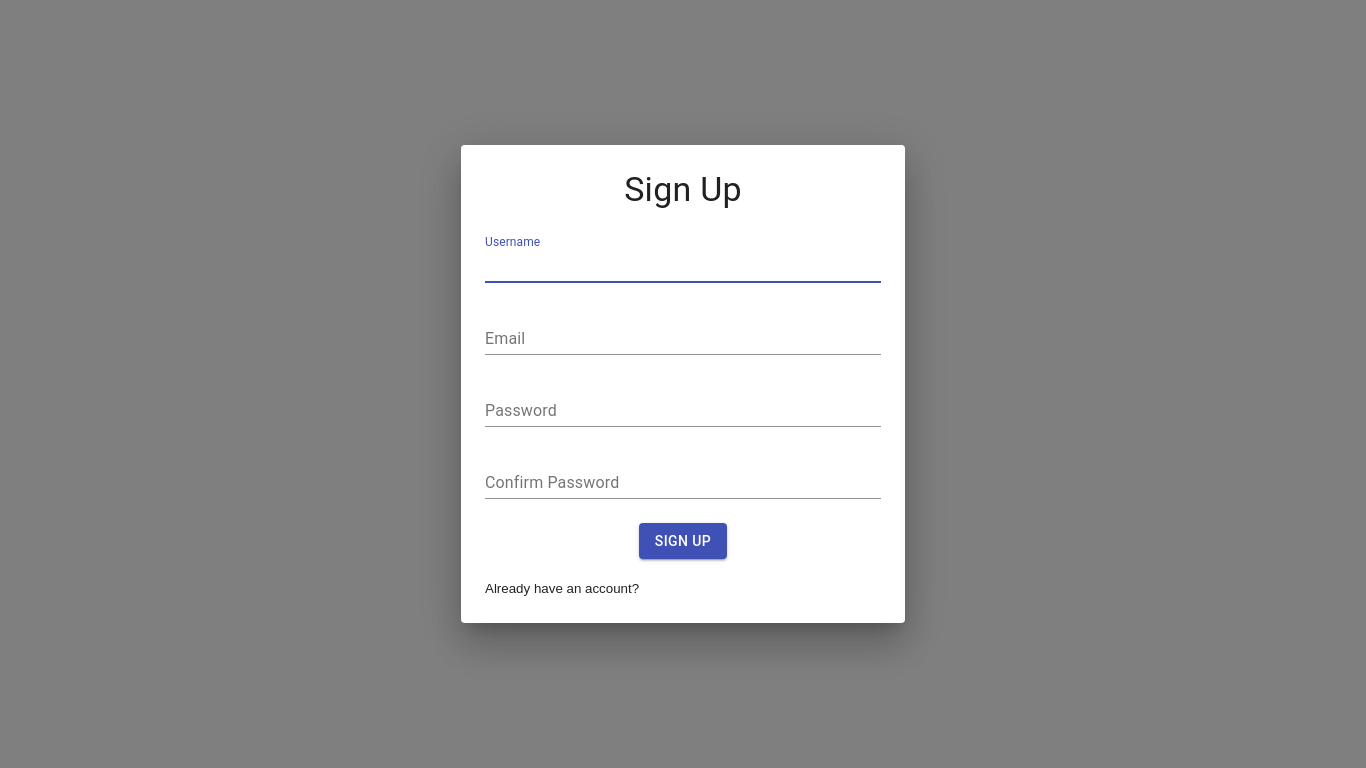
<SignUpDialog /> › Validation › should give an error on submit if email is empty
Type "username123" into the field labelled "Username" at point(683, 267), box x1=485 y1=251 x2=881 y2=283
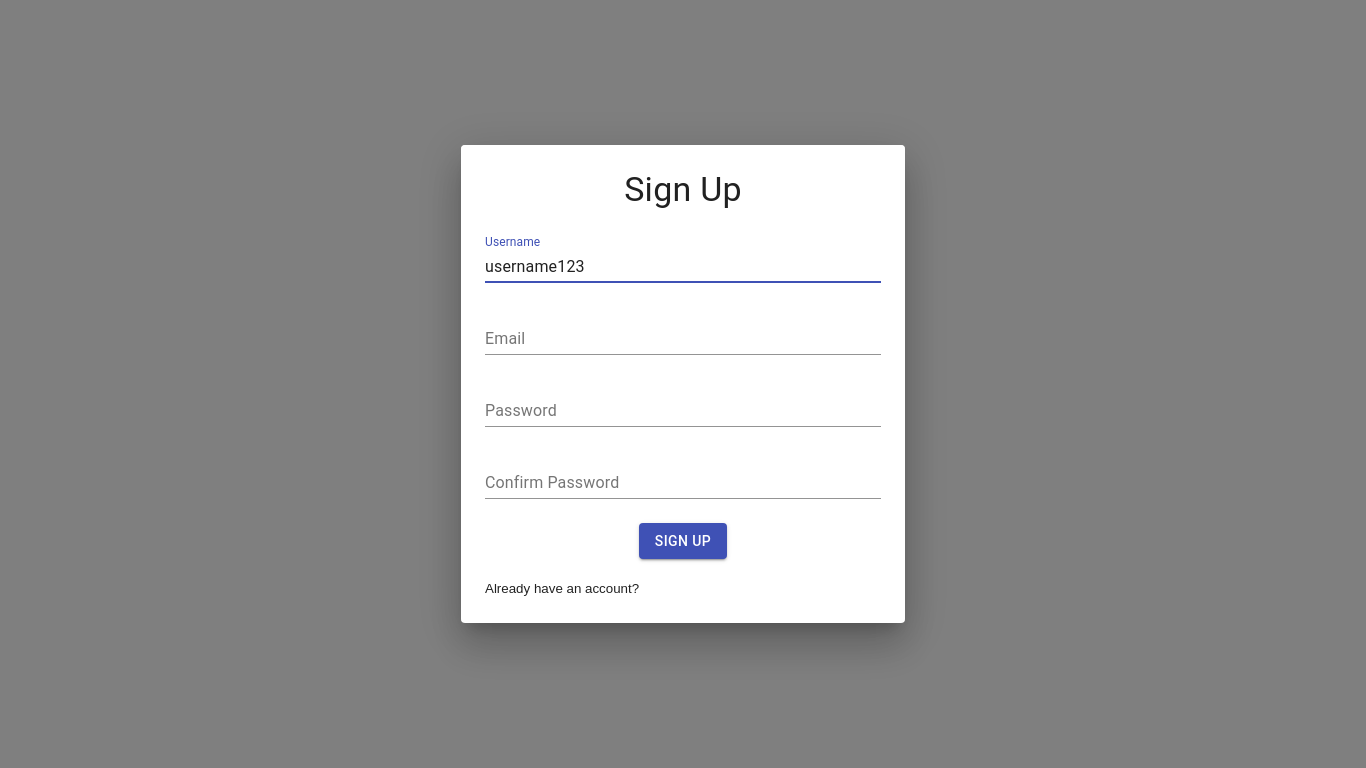
Type "123123" into the password field labelled "Password" at point(683, 411), box x1=485 y1=395 x2=881 y2=427
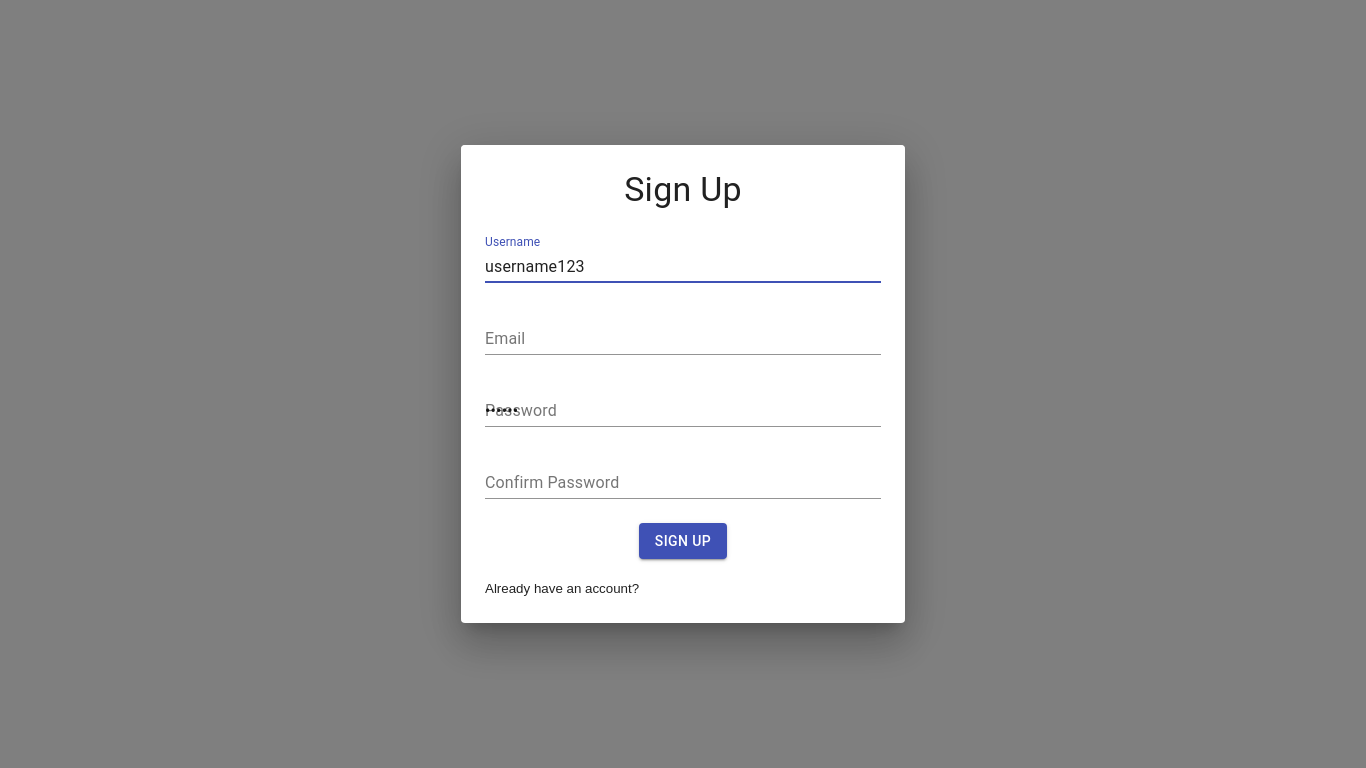
Type "123123" into the password field labelled "Confirm Password" at point(683, 483), box x1=485 y1=467 x2=881 y2=499
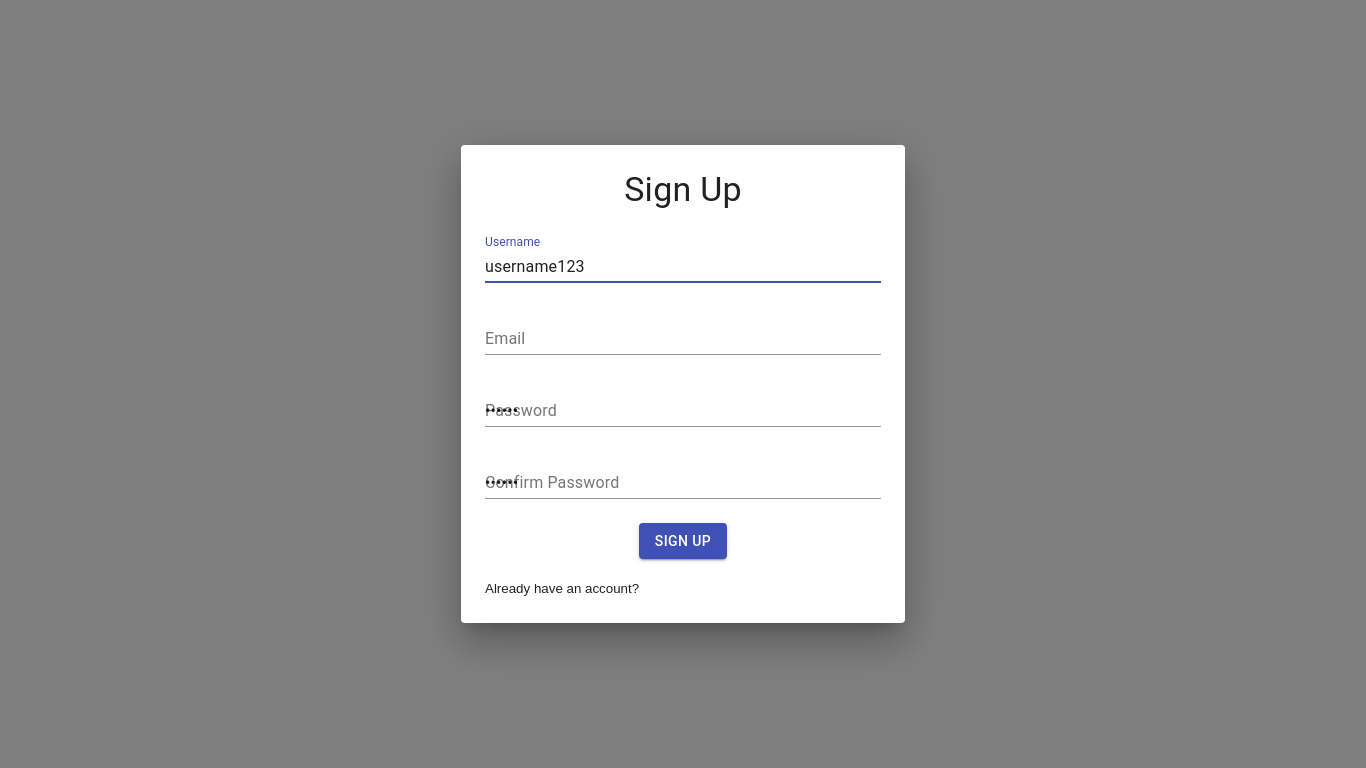
Submit the form, box x1=485 y1=223 x2=881 y2=571
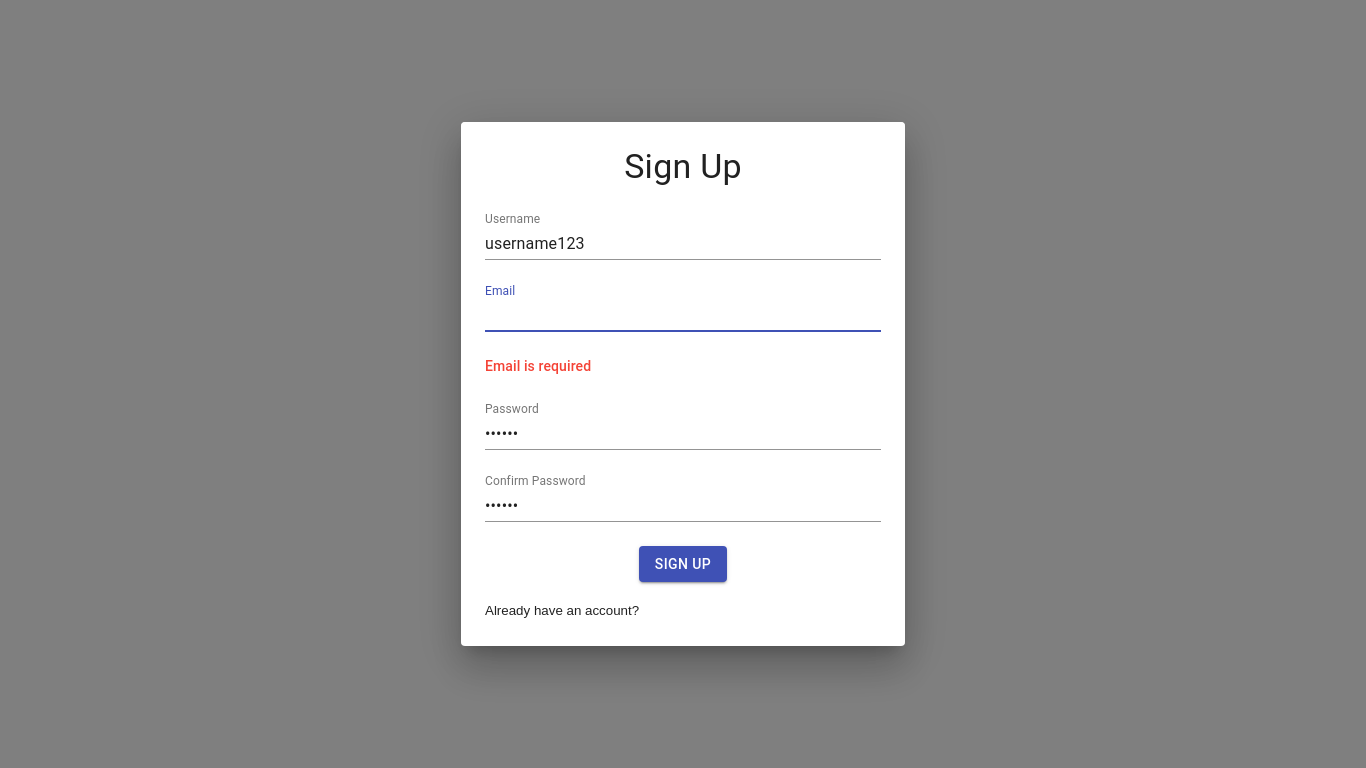
Now the text "Email is required" is shown, box x1=485 y1=358 x2=591 y2=374
